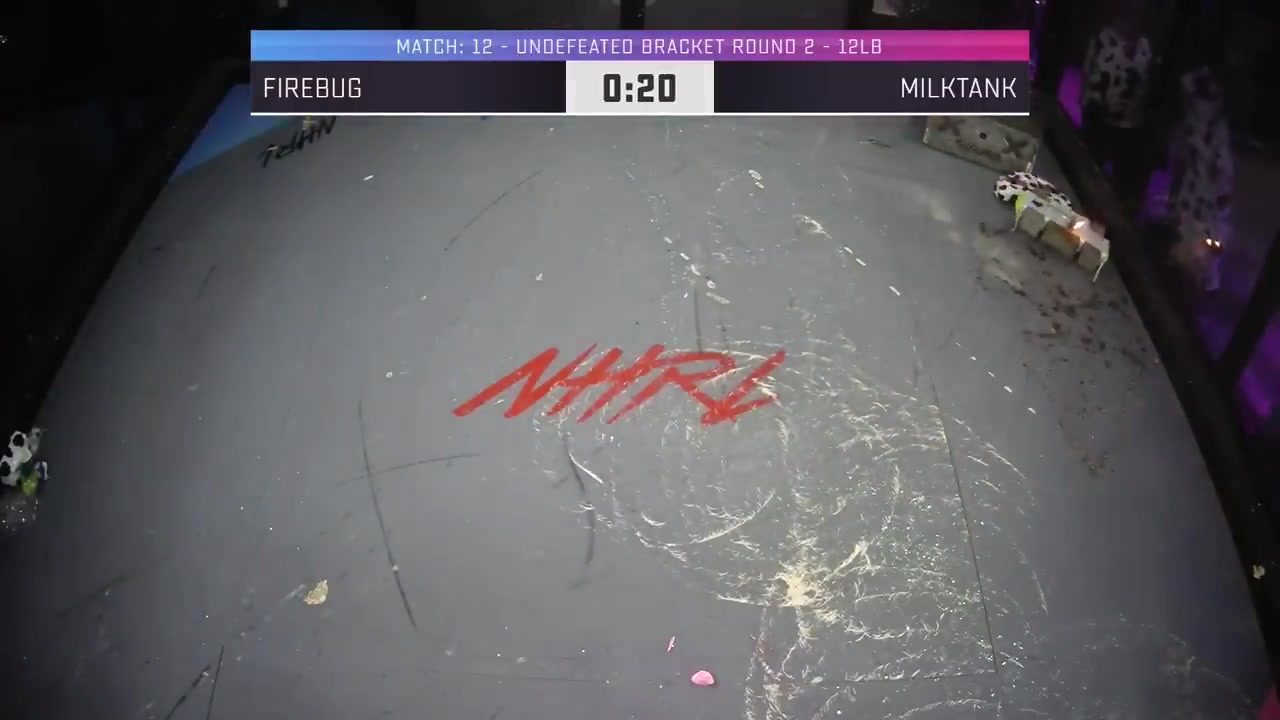combatbot: (1012, 191, 1113, 286), (990, 166, 1078, 218)
debris: (687, 668, 721, 694)
housebot: (921, 113, 1039, 182)
